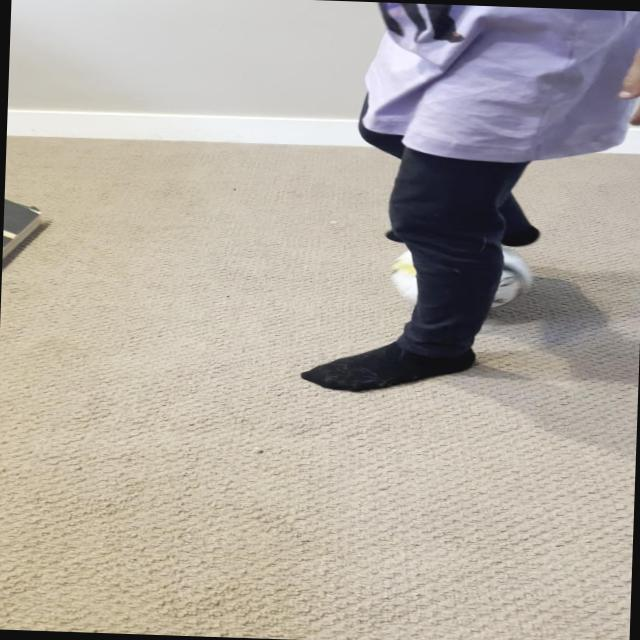Soccer Ball: (390, 237, 533, 316)
